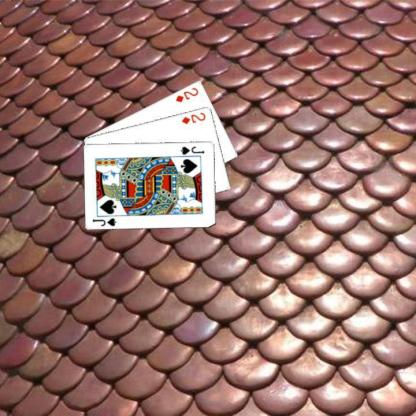2D: (173, 85, 199, 103), (179, 110, 207, 125)
JS: (178, 144, 206, 156), (90, 216, 117, 227)
